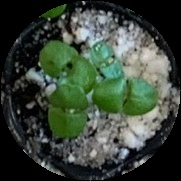Basil: (92, 78, 158, 114), (48, 81, 86, 143), (41, 43, 93, 87), (91, 42, 124, 81)
